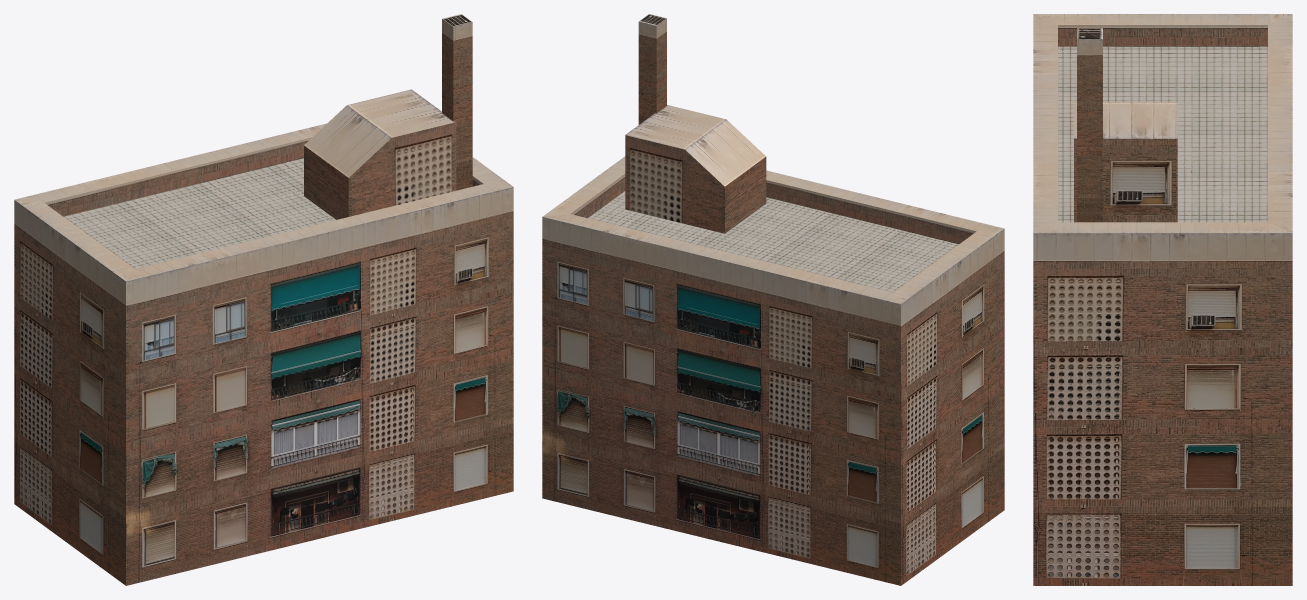
File: house.obj
3 views of the same model, side by side, from view 1: azimuth 30°, elevation 25°; view 2: azimuth 150°, elevation 25°; view 3: azimuth 270°, elevation 25° (orthographic). The views are drawn at different scales.
Parts seen in each view (by area): view 1: 4StorySchorn_Cube.002; view 2: 4StorySchorn_Cube.002; view 3: 4StorySchorn_Cube.002.
Part boxes in pixels (x1,y1,x2,y2): 4StorySchorn_Cube.002: (14, 14, 513, 585); 4StorySchorn_Cube.002: (542, 14, 1004, 585); 4StorySchorn_Cube.002: (1033, 14, 1292, 585).
Bounding box in the file's own units: 4 × 4.54 × 2.
